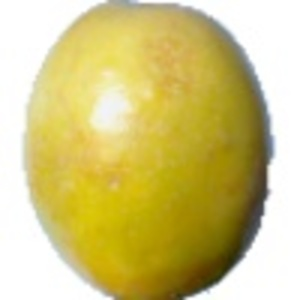maracujá: (22, 1, 278, 300)
